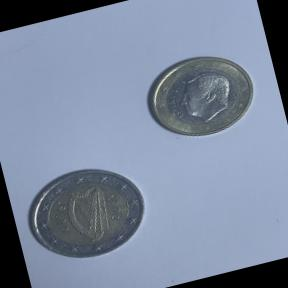coin: (13, 152, 158, 274), (133, 40, 266, 152)
